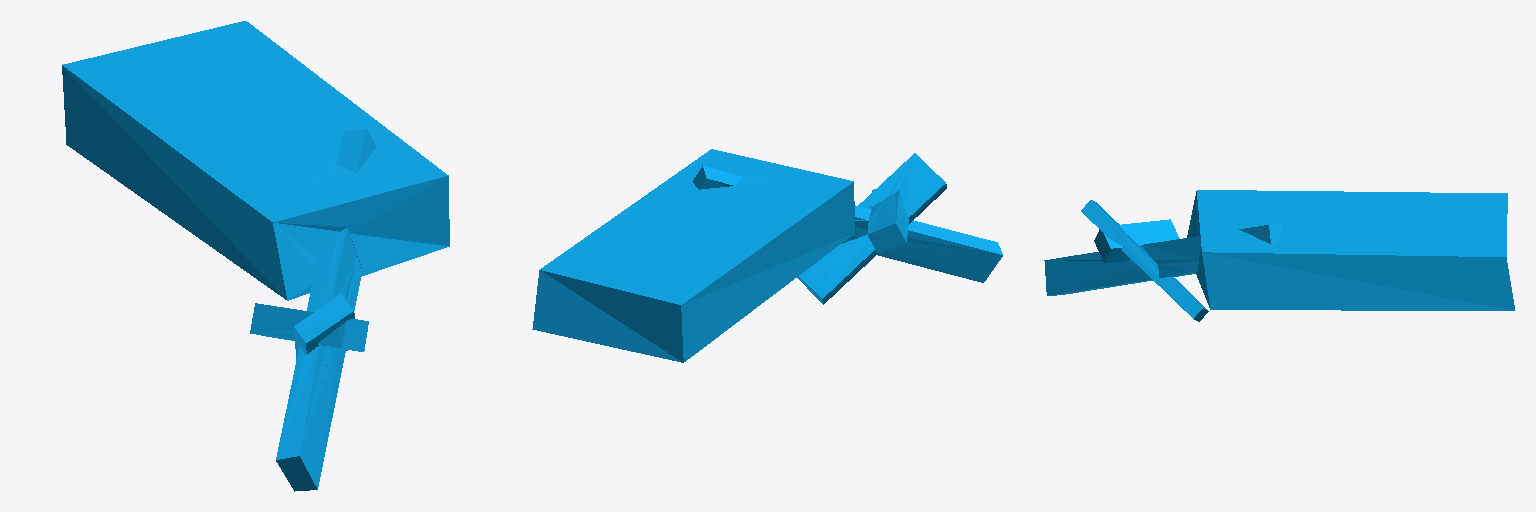
robot.urdf — blob150:

<robot name="blob150">
  <link name="random_obj_150">
    <contact>
      <lateral_friction value="1.0"/>
      <rolling_friction value="0.0"/>
      <inertia_scaling value="3.0"/>
      <contact_cfm value="0.0"/>
      <contact_erp value="1.0"/>
    </contact>
    <inertial>
      <origin rpy="0 0 0" xyz="0 0 0"/>
      <mass value="0.0744"/>
      <inertia ixx="1" ixy="0" ixz="0" iyy="1" iyz="0" izz="0"/>
    </inertial>
    <visual>
      <origin rpy="0 0 0" xyz="0 0 0"/>
      <geometry>
        <mesh filename="150.obj" scale="0.0068 0.0068 0.0068"/>
      </geometry>
      <material name="blockmat">
        <color rgba="0.08 0.71 0.98 1"/>
      </material>
    </visual>
    <collision>
      <origin rpy="0 0 0" xyz="0 0 0"/>
      <geometry>
        <mesh filename="150_coll.obj" scale="0.0068 0.0068 0.0068"/>
      </geometry>
    </collision>
  </link>
</robot>

--- What the picture shows (computed from the rendered views, not written in the file) ---
The picture shows the robot from 3 angles, left to right: view 1: azimuth 30°, elevation 25°; view 2: azimuth 150°, elevation 25°; view 3: azimuth 270°, elevation 25°; orthographic projection.
Robot: blob150 — 1 links, 0 joints (none); root link random_obj_150; default pose: all joints at 0.
Links seen in each view (by area): view 1: random_obj_150; view 2: random_obj_150; view 3: random_obj_150.
Boxes of the visible links, bbox=[...] form: random_obj_150: bbox=[62, 21, 449, 491]; random_obj_150: bbox=[532, 149, 1002, 362]; random_obj_150: bbox=[1044, 190, 1514, 321].
Size in the robot's own frame: 0.061 by 0.1211 by 0.0416 metres.
Meshes: 1 distinct files referenced, 1 mesh visuals loaded (1 OBJ).
